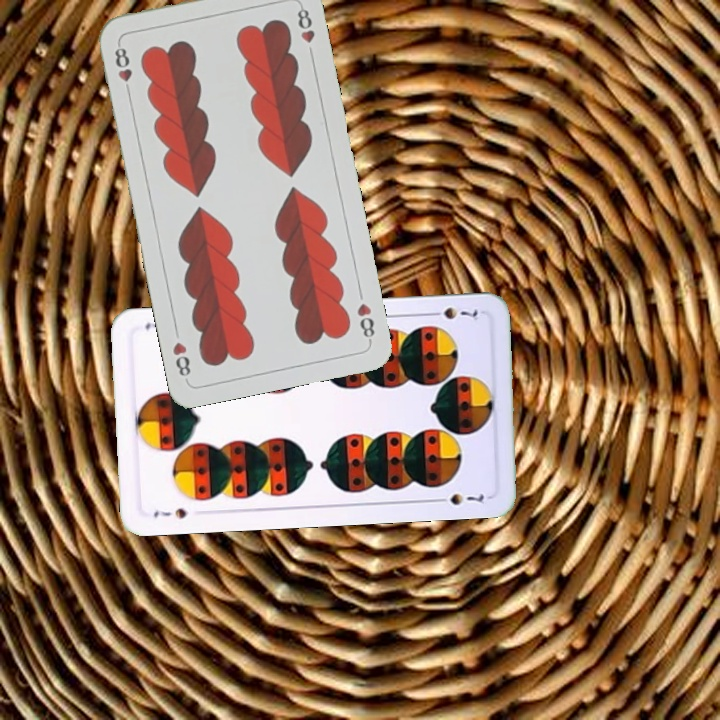H8: (110, 39, 135, 98), (353, 299, 377, 345)
S7: (424, 303, 481, 323), (150, 504, 189, 522)
